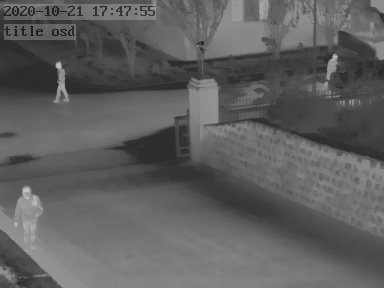person: (13, 184, 45, 244), (53, 60, 69, 100), (324, 49, 337, 85)
